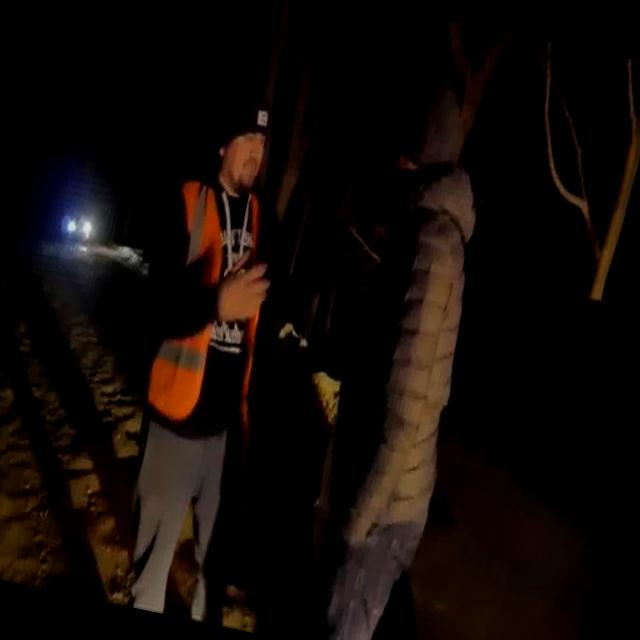vest: (133, 178, 300, 440)
